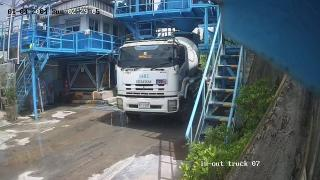cement_mixer_truck: (115, 34, 201, 121)
